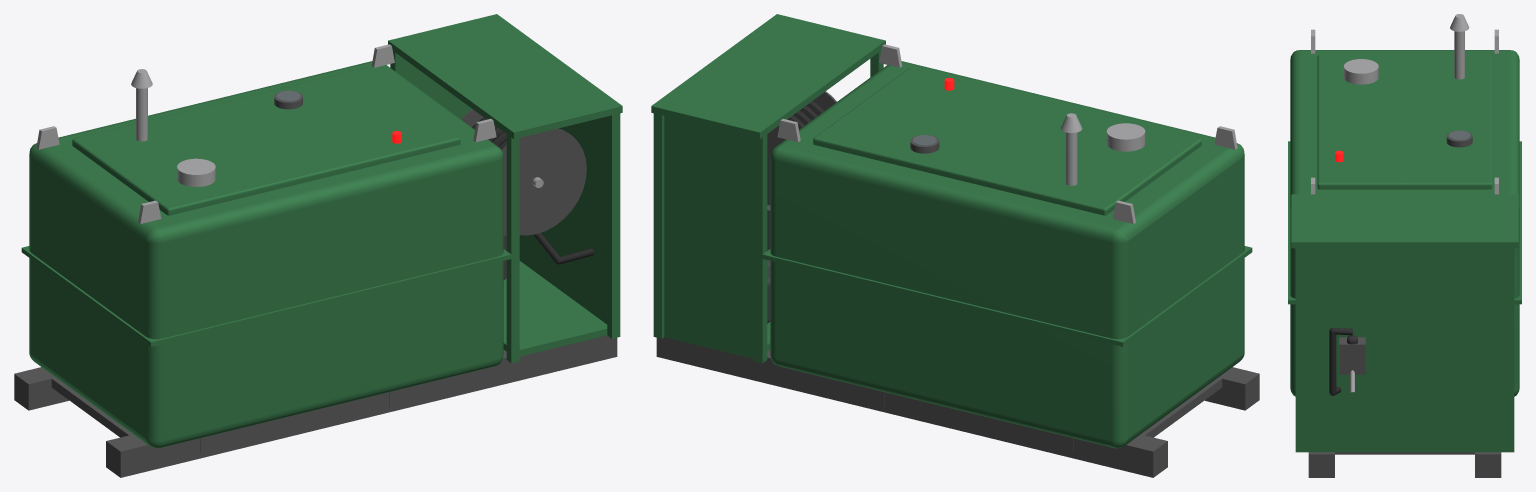
The model's file is fuel_tank_1000l.glb.
3 views of the same model, side by side, from view 1: azimuth 30°, elevation 25°; view 2: azimuth 150°, elevation 25°; view 3: azimuth 270°, elevation 25° (orthographic). The views are drawn at different scales.
Parts seen in each view (by area): view 1: tank, pump_cabinet, skids, hose_reel_spin; view 2: tank, pump_cabinet, skids, hose_reel_spin; view 3: pump_cabinet, tank, skids.
Boxes of the visible parts, <box> form: tank: <box>21,44,511,448</box>; pump_cabinet: <box>388,14,622,363</box>; skids: <box>14,335,617,477</box>; hose_reel_spin: <box>461,109,586,235</box>; tank: <box>762,44,1252,448</box>; pump_cabinet: <box>651,14,885,363</box>; skids: <box>656,337,1259,477</box>; hose_reel_spin: <box>767,91,836,205</box>; pump_cabinet: <box>1291,194,1518,452</box>; tank: <box>1288,14,1521,396</box>; skids: <box>1308,452,1501,477</box>.
Bounding box in the file's own units: 2.48 × 1.46 × 1.07.
8 materials, 8 textured.
